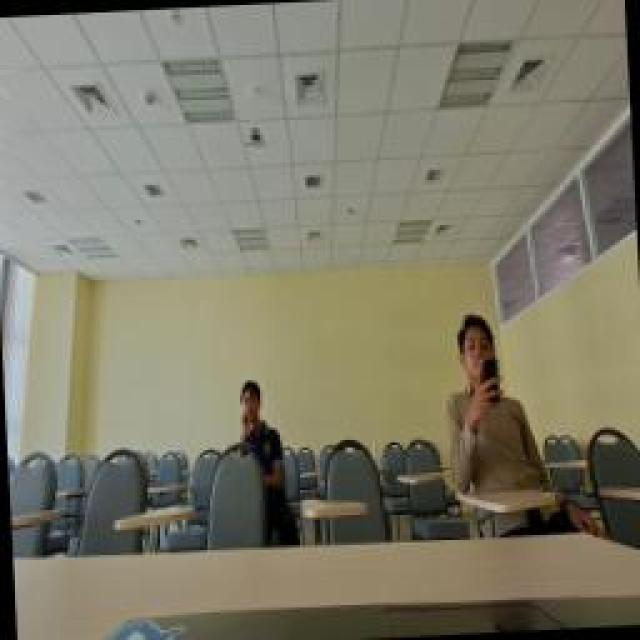phone: (440, 310, 542, 492)
study: (232, 372, 288, 498)
